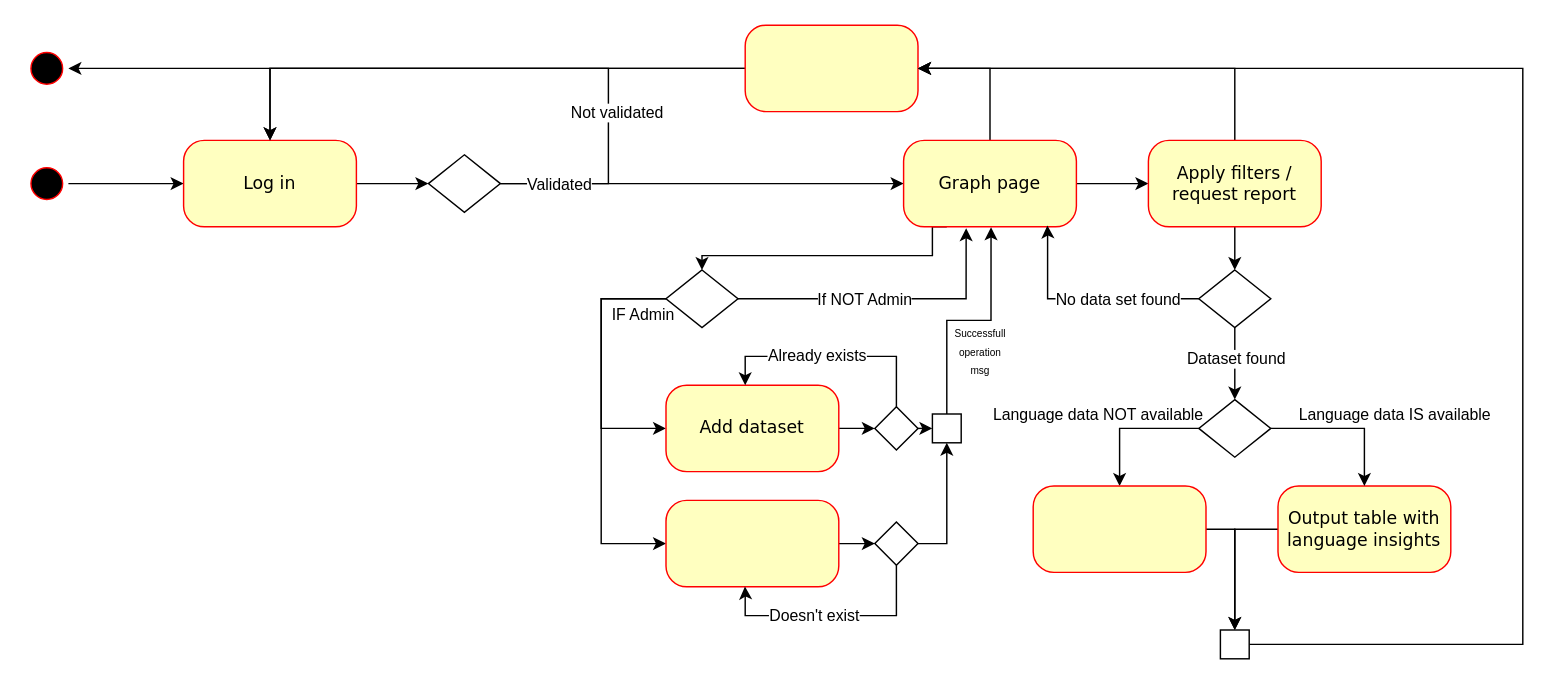
Some shapes in this 1560 by 684 pixel diagram are drawn without their labels. The shapes that lost their labels are listed below. From the top down, each one's centre as x and y in pixels, then its label:
At (831,68): "Log out".
At (752,543): "Delete dataset".
At (1119,528): "Output basic table".
